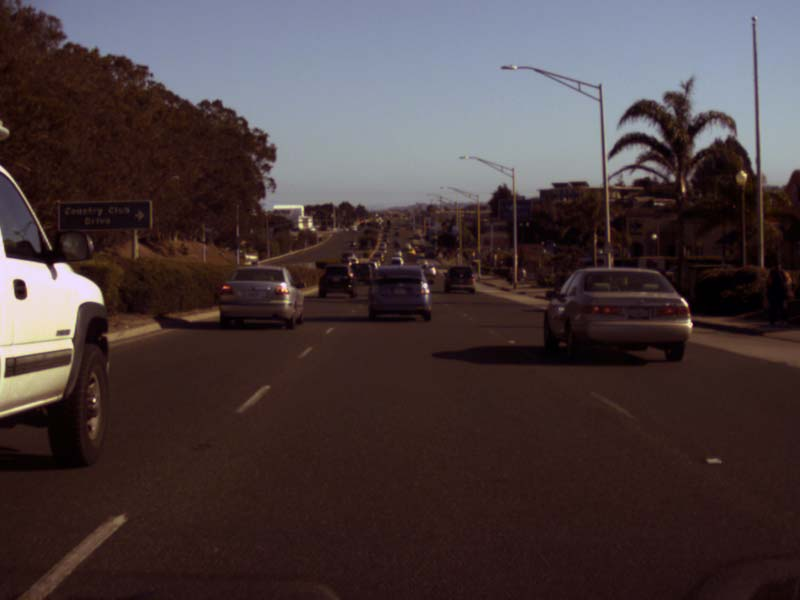Green: (386, 220, 390, 227)
Red: (360, 220, 364, 225)
